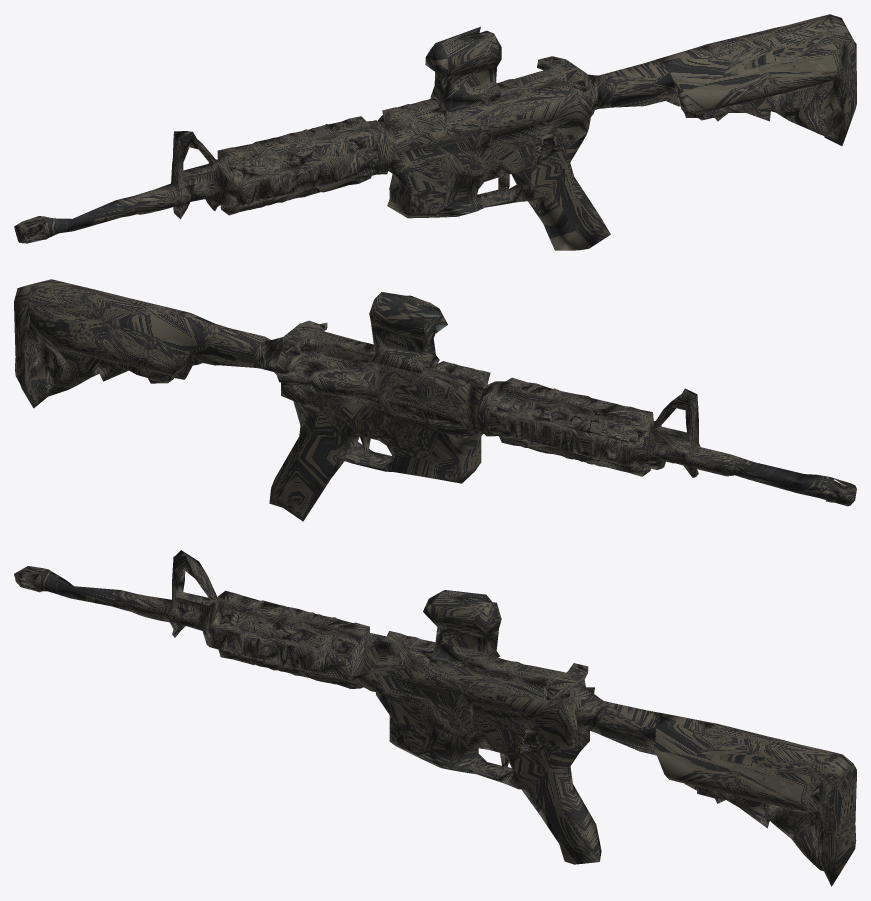
The model's file is fusil.glb.
3 renders of one model, top to bottom at view 1: azimuth 30°, elevation 25°; view 2: azimuth 150°, elevation 25°; view 3: azimuth 330°, elevation 25°, orthographic.
Size of the model in its own units: 1.9 by 0.5381 by 0.1701.
Materials: 1 (1 with a texture image).
